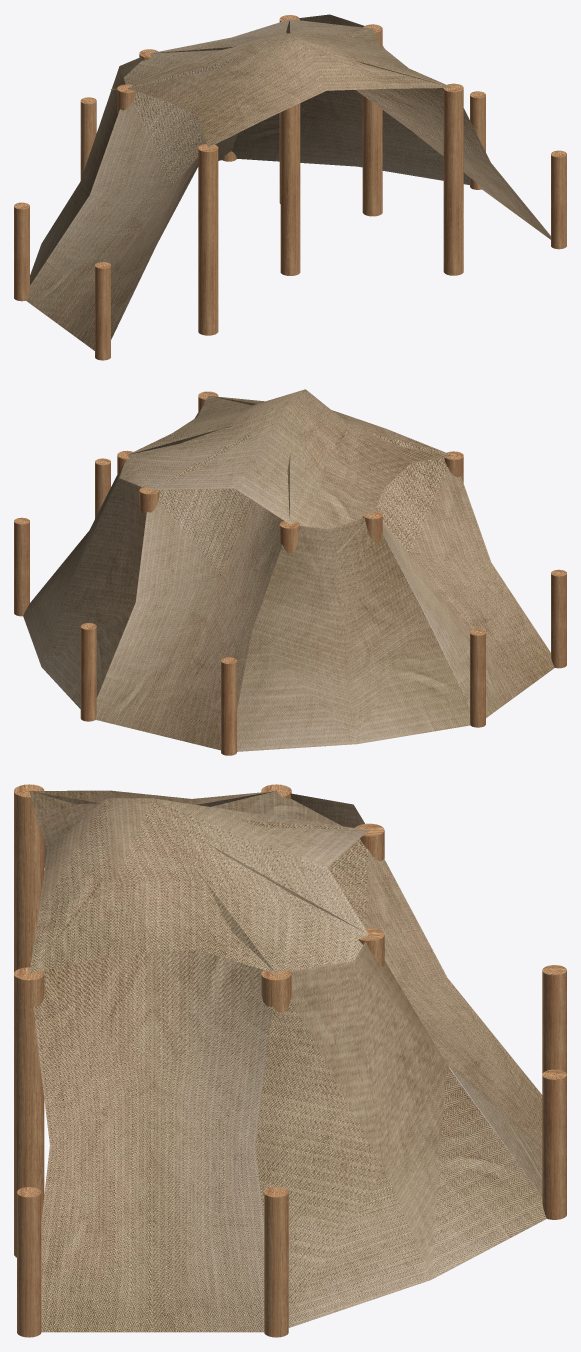
File: Tent2_Final.fbx
3 views of the same model, one above another, from view 1: azimuth 30°, elevation 25°; view 2: azimuth 150°, elevation 25°; view 3: azimuth 270°, elevation 25° (orthographic). The views are drawn at different scales.
Parts seen in each view (by area): view 1: Poles, Tent_sub_1, Tent_main, Tent_sub_5, Tent_sub_2, Tent_sub_4, Tent_sub_3; view 2: Tent_sub_4, Tent_sub_3, Tent_main, Tent_sub_1, Tent_sub_5, Poles; view 3: Tent_sub_2, Tent_sub_5, Tent_main, Poles, Tent_sub_3, Tent_sub_4.
Part boxes in pixels (left/top/right/bottom): Poles: left=14, top=15, right=566, bottom=360; Tent_sub_1: left=26, top=56, right=247, bottom=350; Tent_main: left=111, top=19, right=452, bottom=147; Tent_sub_5: left=232, top=14, right=470, bottom=184; Tent_sub_2: left=322, top=29, right=550, bottom=239; Tent_sub_4: left=30, top=57, right=141, bottom=284; Tent_sub_3: left=154, top=20, right=290, bottom=160; Tent_sub_4: left=237, top=517, right=470, bottom=751; Tent_sub_3: left=95, top=429, right=290, bottom=750; Tent_main: left=119, top=389, right=452, bottom=553; Tent_sub_1: left=320, top=427, right=554, bottom=717; Tent_sub_5: left=23, top=461, right=146, bottom=708; Poles: left=14, top=391, right=566, bottom=755; Tent_sub_2: left=32, top=869, right=275, bottom=1332; Tent_sub_5: left=255, top=941, right=546, bottom=1327; Tent_main: left=29, top=790, right=368, bottom=973; Poles: left=14, top=784, right=566, bottom=1337; Tent_sub_3: left=207, top=819, right=542, bottom=1196; Tent_sub_4: left=290, top=793, right=364, bottom=827.
Size of the model in its own units: 268 by 130 by 179.
2 materials, 2 textured.
